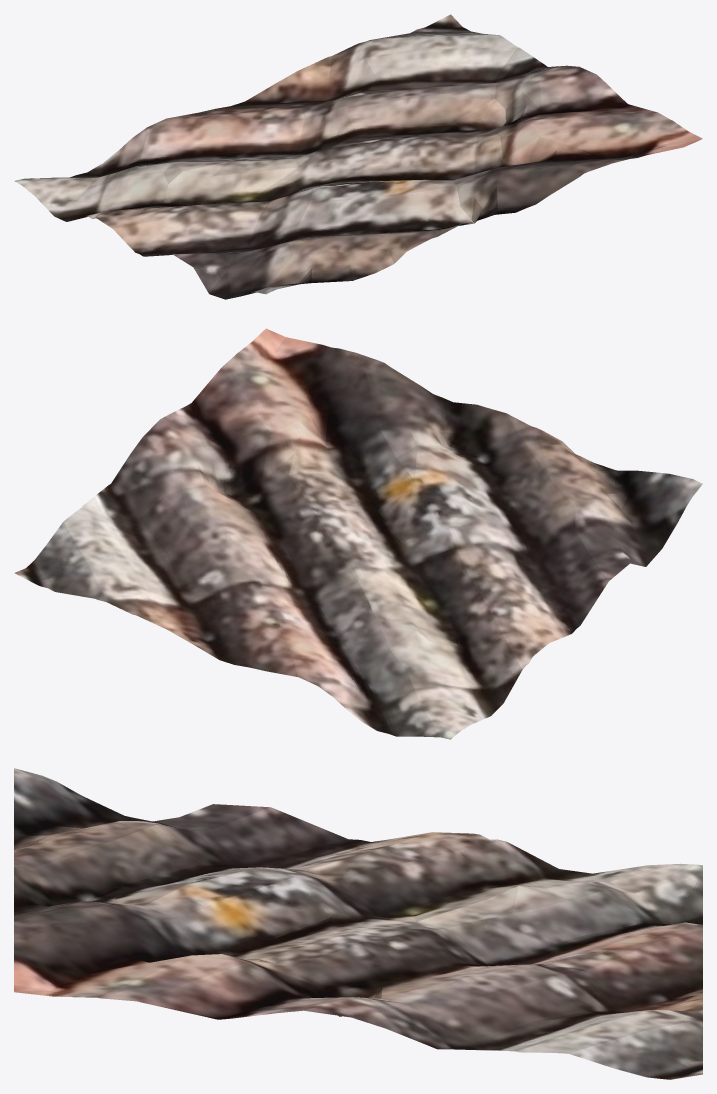
3 renders of one model, top to bottom at view 1: azimuth 30°, elevation 25°; view 2: azimuth 150°, elevation 25°; view 3: azimuth 270°, elevation 25°, orthographic. The views are drawn at different scales.
Size of the model in its own units: 0.8374 by 0.2391 by 0.8374.
Materials: 3 (3 with a texture image).
